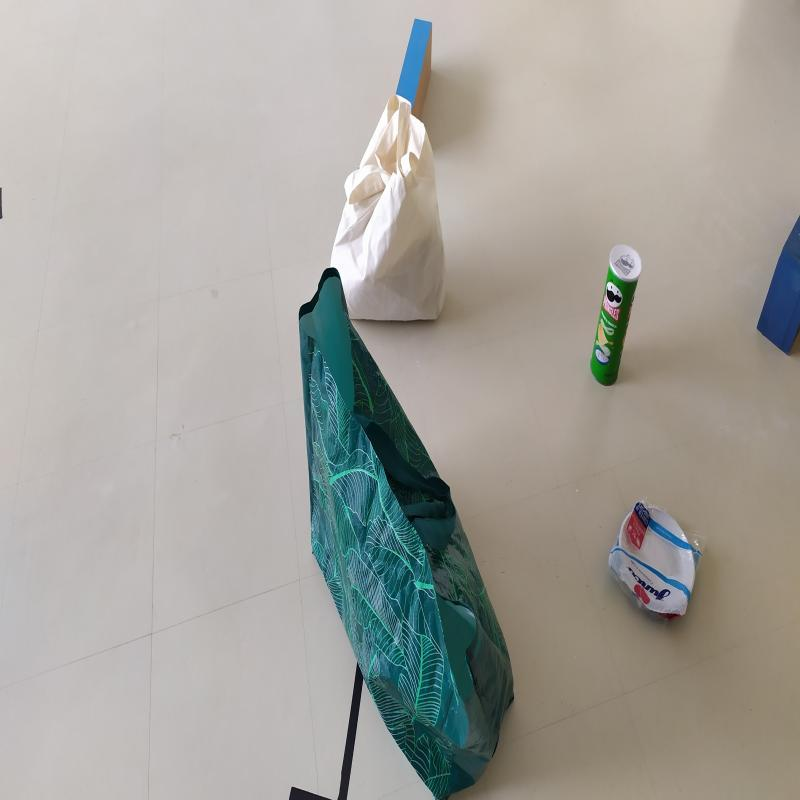Bag: (304, 268, 524, 800), (320, 94, 450, 328)
Plate: (610, 500, 698, 621)
Pringles: (589, 241, 643, 385)
